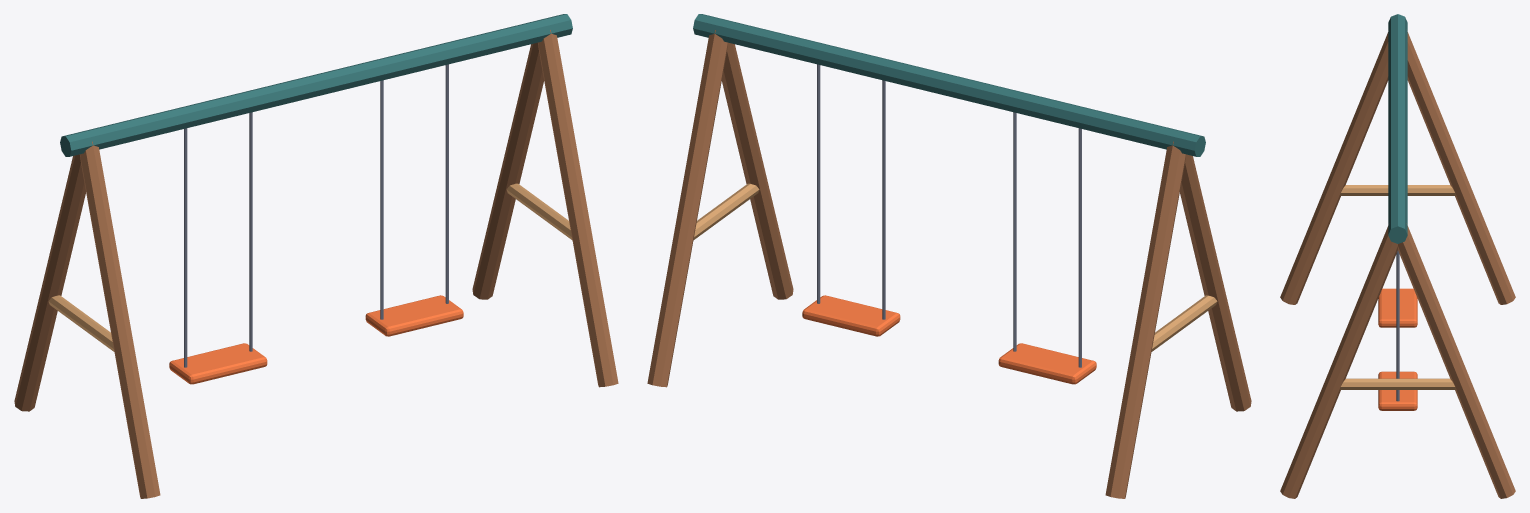
The model's file is swing_set.glb.
The picture shows the model from 3 angles, left to right: view 1: azimuth 30°, elevation 25°; view 2: azimuth 150°, elevation 25°; view 3: azimuth 270°, elevation 25°; orthographic projection. The views are drawn at different scales.
Visible parts, largest first — view 1: swing_set_Mesh; view 2: swing_set_Mesh; view 3: swing_set_Mesh.
Part boxes in pixels (x1,y1,x2,y2): swing_set_Mesh: (14,14,618,498); swing_set_Mesh: (647,14,1251,498); swing_set_Mesh: (1280,14,1515,498).
Size of the model in its own units: 4.6 by 2.83 by 2.16.
